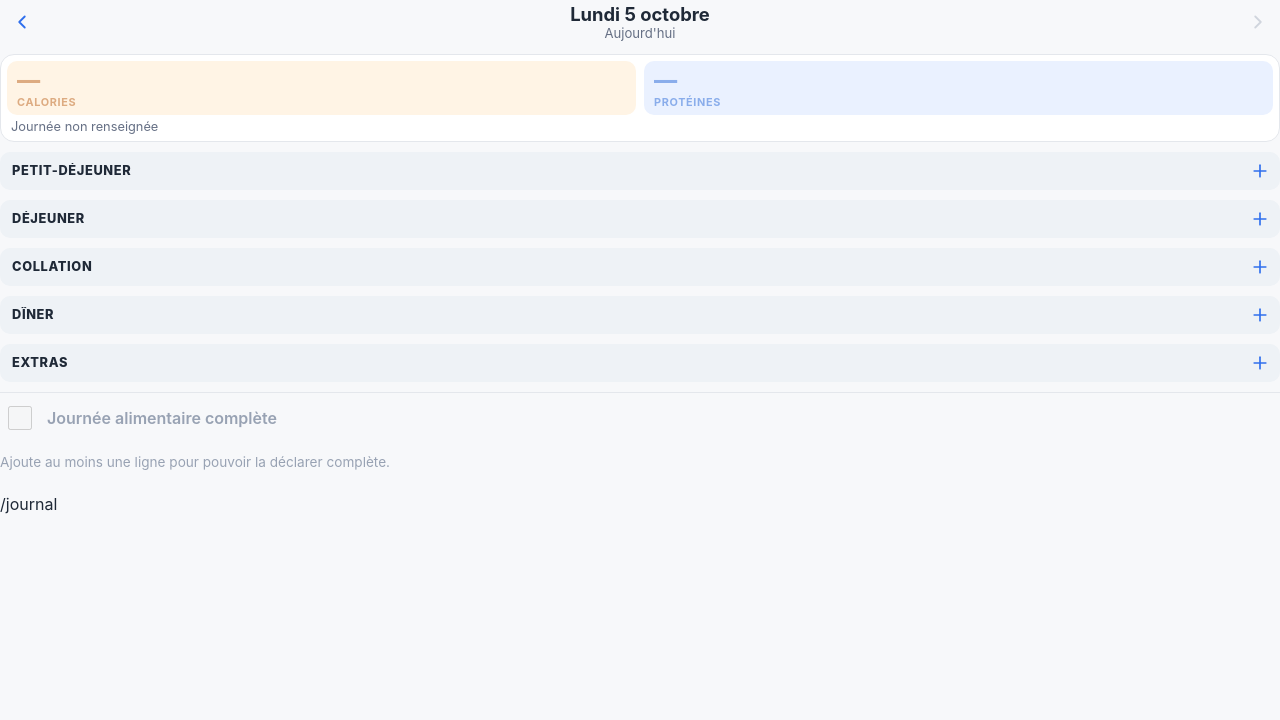
it: ajouter un repas favori › Déjeuner + → Déjeuner thon → Ajouter au déjeuner : 3 touchers, deux lignes avec la provenance, retour au Journal
The image size is (1280, 720).
Click the button named "Ajouter au déjeuner" at [1260, 219], box [1240,200,1279,238]
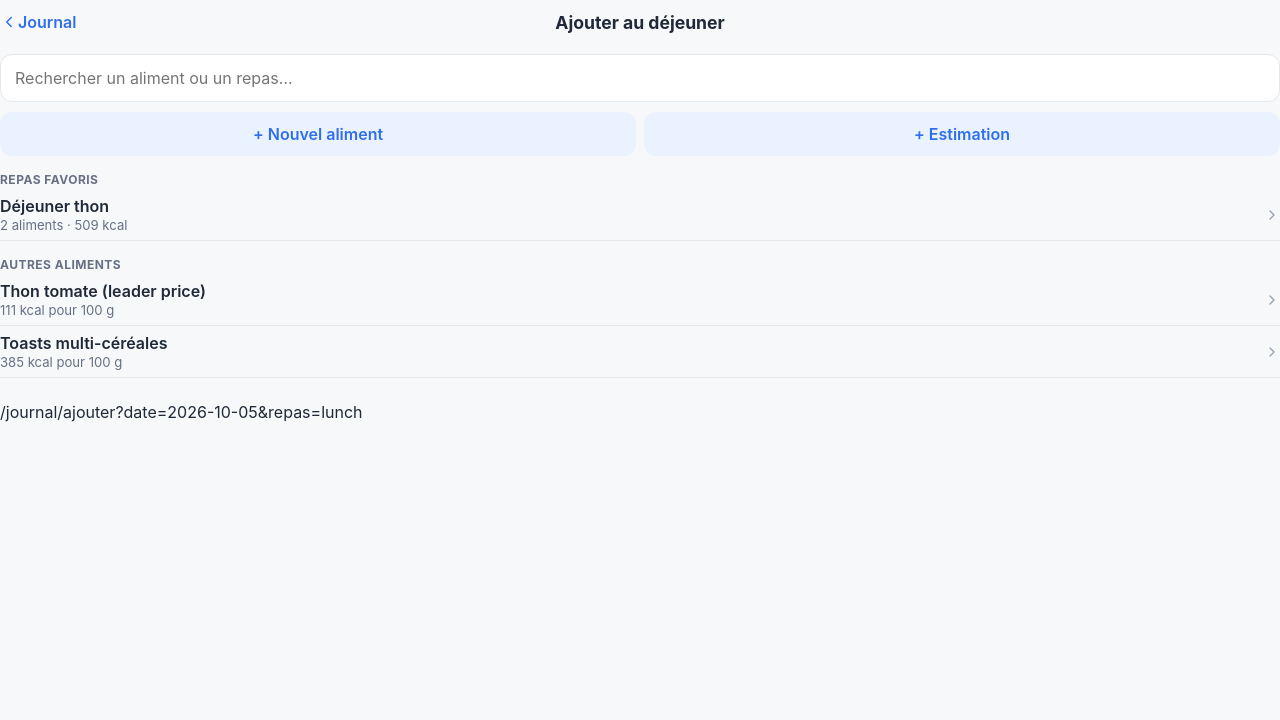
Check: the button "Déjeuner thon 2 aliments · 509 kcal" is shown
Click the button "Déjeuner thon 2 aliments · 509 kcal" at [55, 206], box [0,189,1279,241]
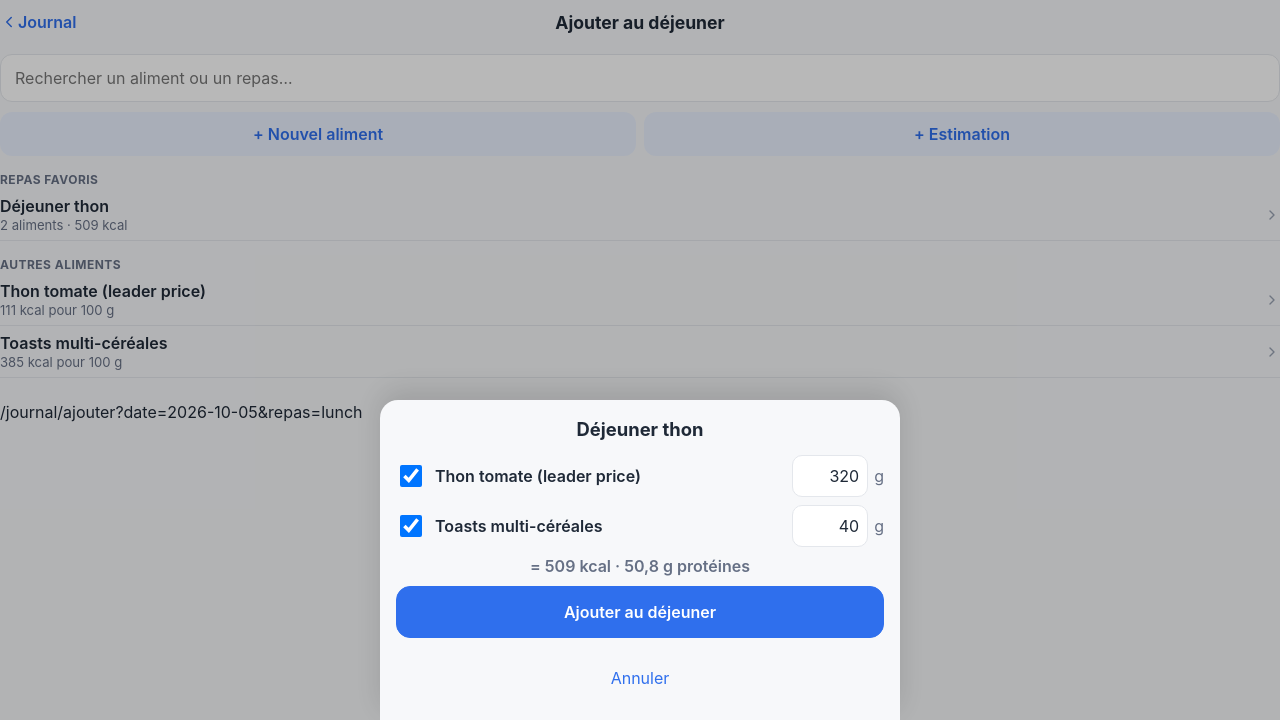
Check: the checkbox named "Ajouter : Thon tomate (leader price)" is checked, box [400,465,422,487]
Check: the field named "Quantité : Thon tomate (leader price)" holds "320", box [792,455,868,497]
Check: the field named "Quantité : Toasts multi-céréales" holds "40", box [792,505,868,547]
Click the button "Ajouter au déjeuner" at [640, 612], box [396,586,884,638]
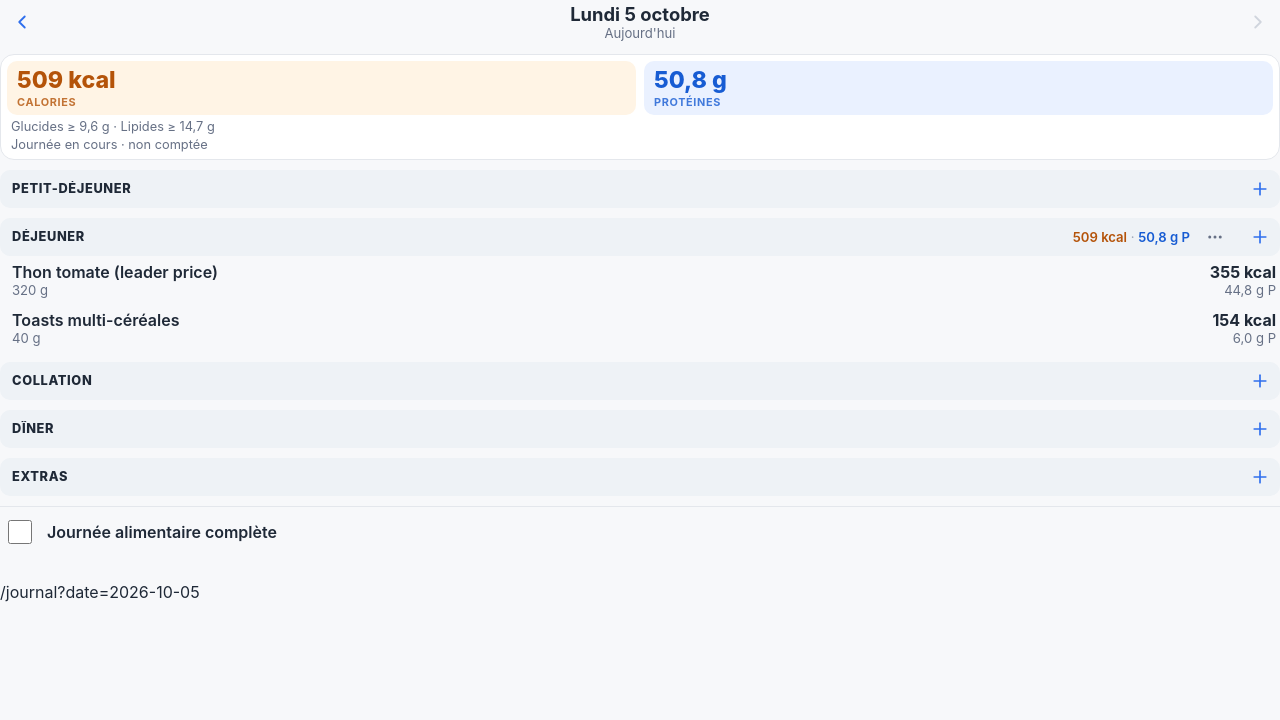
Check: the text with test id "url" reads "/journal?date=2026-10-05", box [0,582,200,602]
